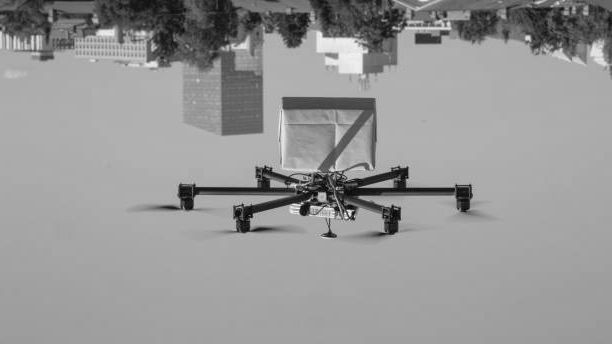Drone: (123, 159, 507, 252)
